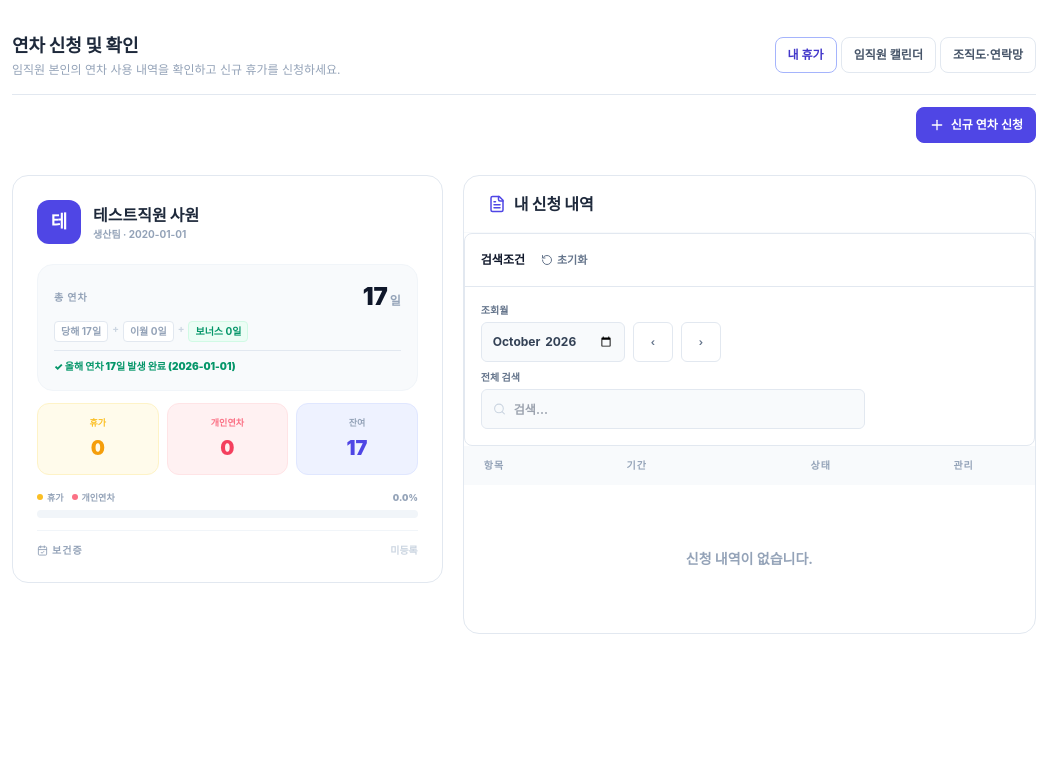
연락망에서는 신청 행동을 숨기고 관리자 편집 권한과 조회 규격을 보존한다
Step 1. Click the button "조직도·연락망" → (988, 55), box [940,37,1036,73]
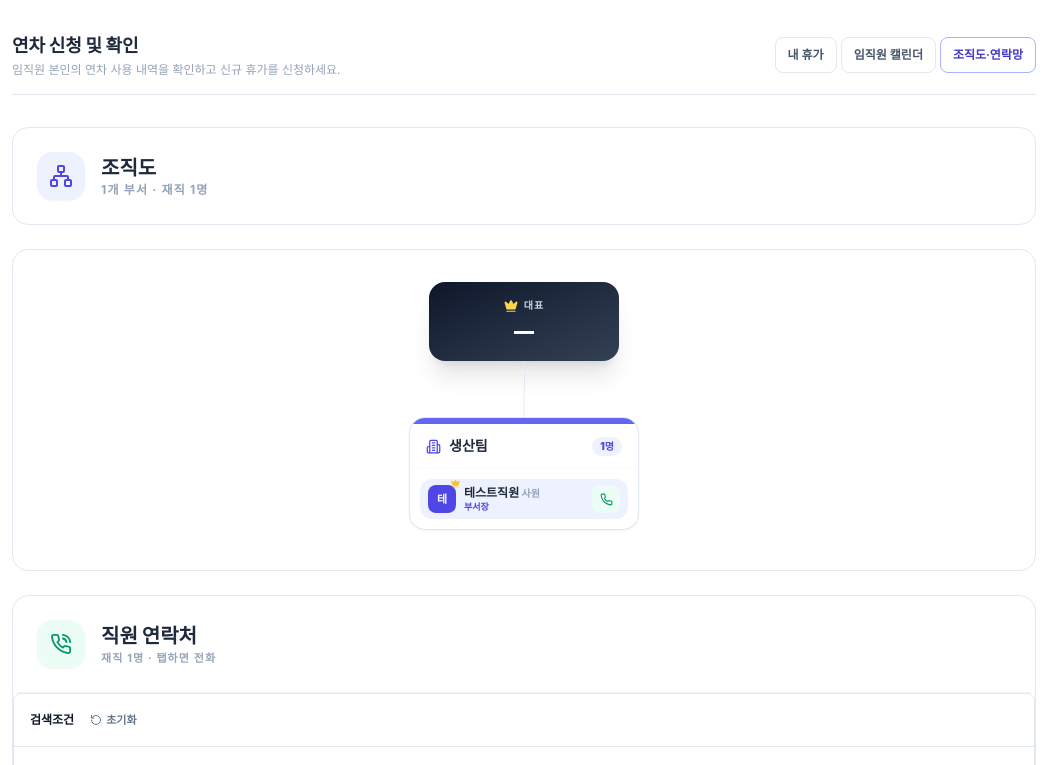
Result: the button "신규 연차 신청" is gone
Step 2. Click the button "임직원 캘린더" → (888, 55), box [841,37,936,73]
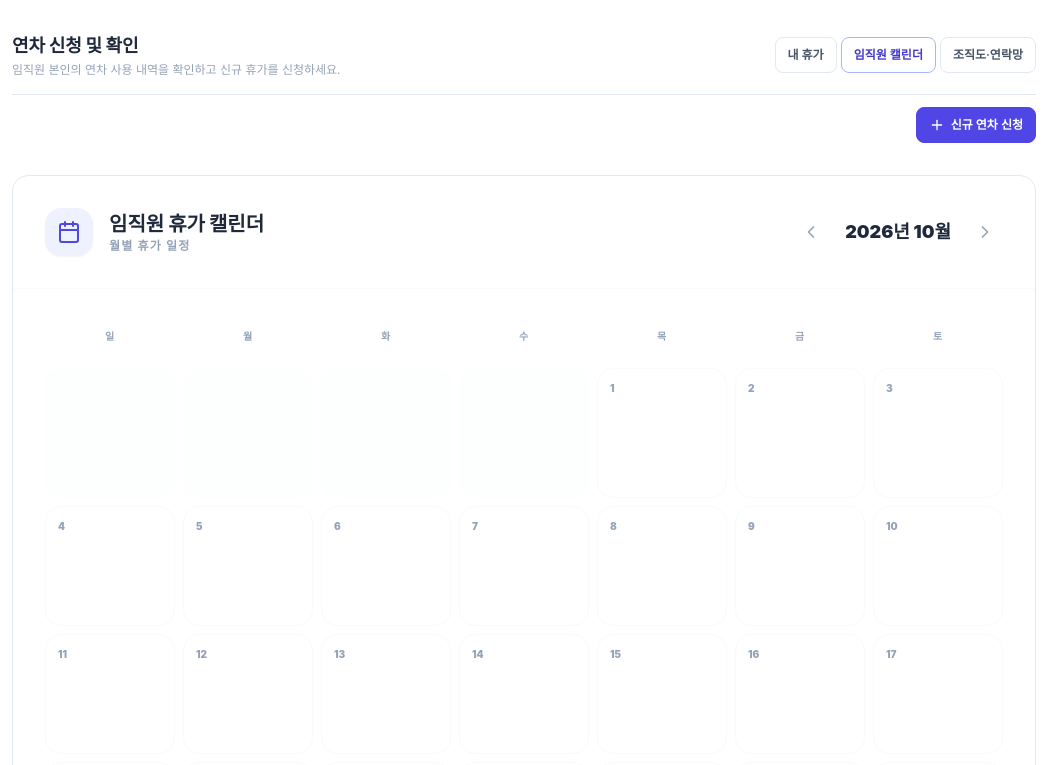
Result: the button "신규 연차 신청" is shown at [916,107,1036,143]
